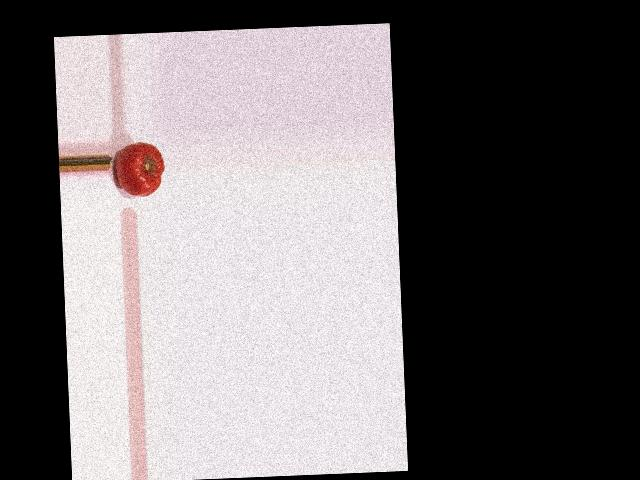tomato: (115, 141, 165, 197)
